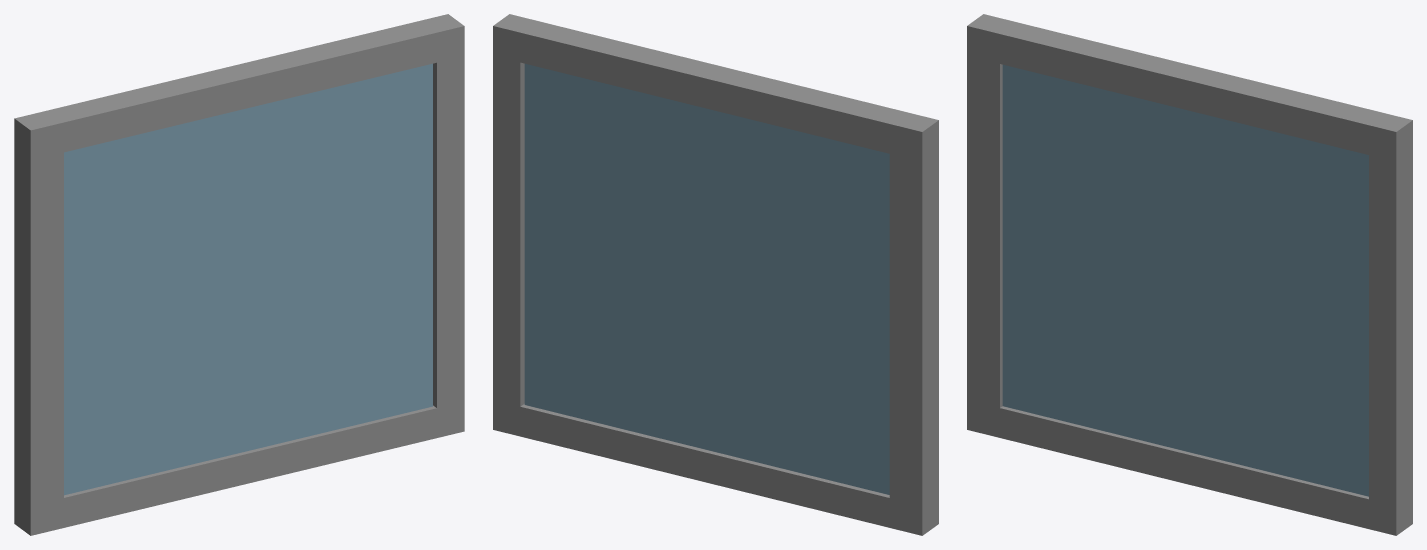
File: Window_15.fbx
The picture shows the model from 3 angles, left to right: view 1: azimuth 30°, elevation 25°; view 2: azimuth 150°, elevation 25°; view 3: azimuth 330°, elevation 25°; orthographic projection.
Parts seen in each view (by area): view 1: Window_15; view 2: Window_15; view 3: Window_15.
Part boxes in pixels (x1,y1,x2,y2): Window_15: (14, 14, 464, 535); Window_15: (493, 14, 938, 535); Window_15: (967, 14, 1412, 535).
Bounding box in the file's own units: 182 × 13.01 × 163.
